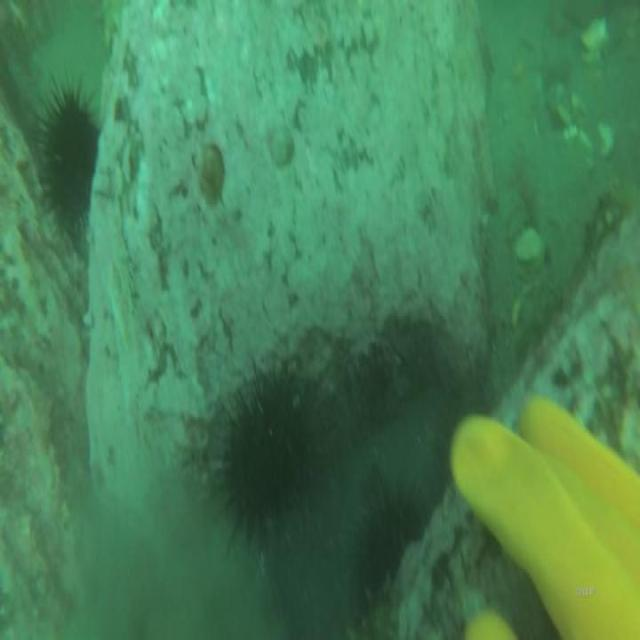echinus: (206, 352, 324, 553), (31, 76, 102, 237), (349, 478, 428, 620)
